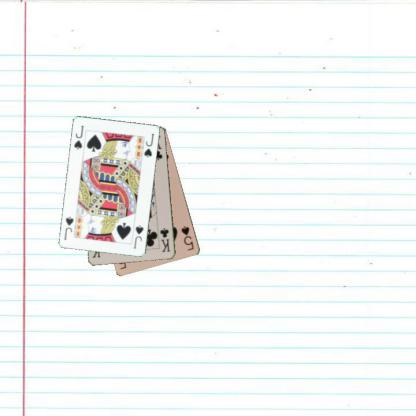5s: (178, 224, 196, 252)
Js: (130, 223, 144, 250), (72, 123, 85, 151)
Kc: (158, 225, 171, 253)
